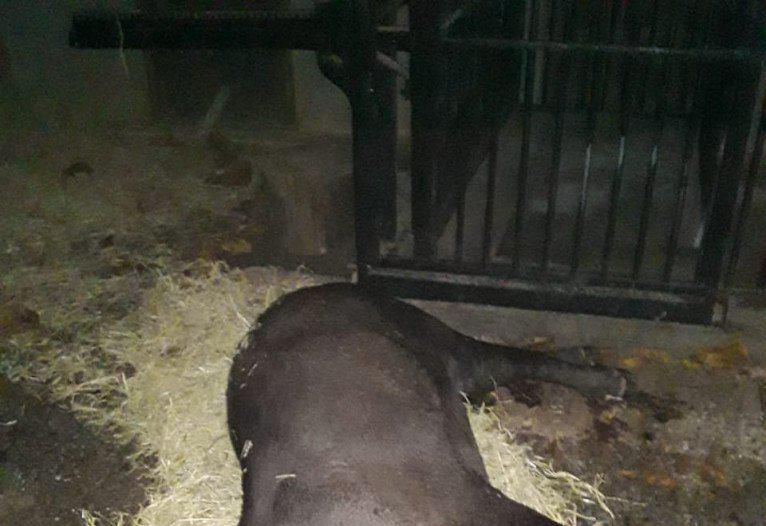Anta: (203, 266, 646, 518)
